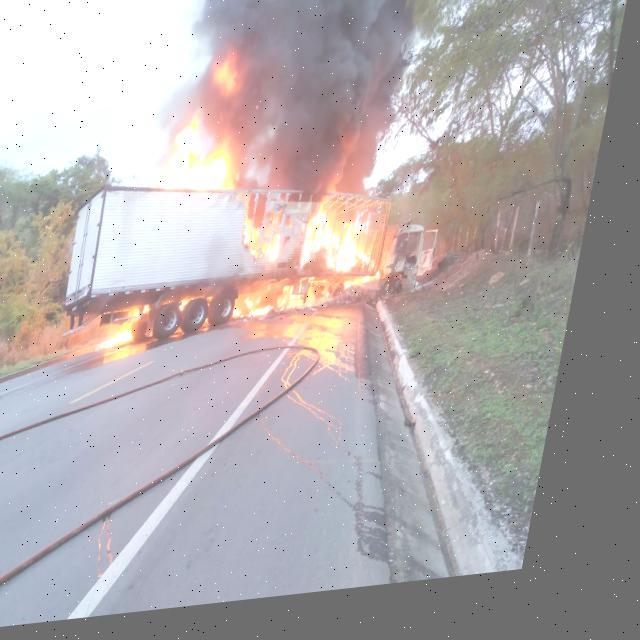Fire: (160, 112, 250, 205), (310, 208, 398, 285), (245, 224, 298, 272), (214, 62, 246, 100), (246, 304, 287, 328), (288, 291, 320, 317), (355, 280, 394, 300), (114, 334, 149, 349)
